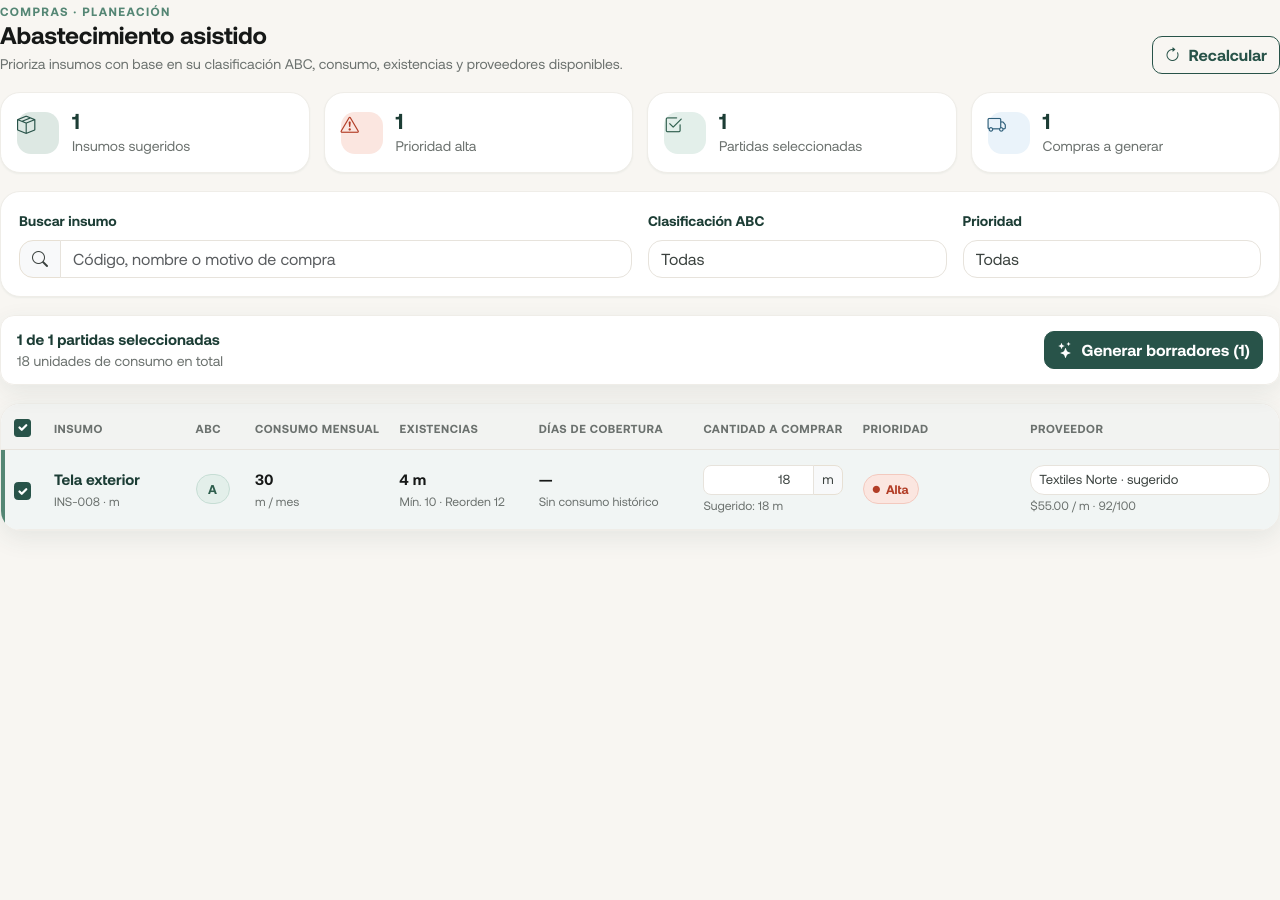
Scenario: AbastecimientoAsistidoPage › permite ajustar la sugerencia y genera borradores agrupados
Expected: the text "Tela exterior" is shown, x1=54 y1=470 x2=140 y2=488
Replace the text in the number field named "Cantidad para INS-008" with "15" at (759, 480), box x1=703 y1=465 x2=814 y2=495
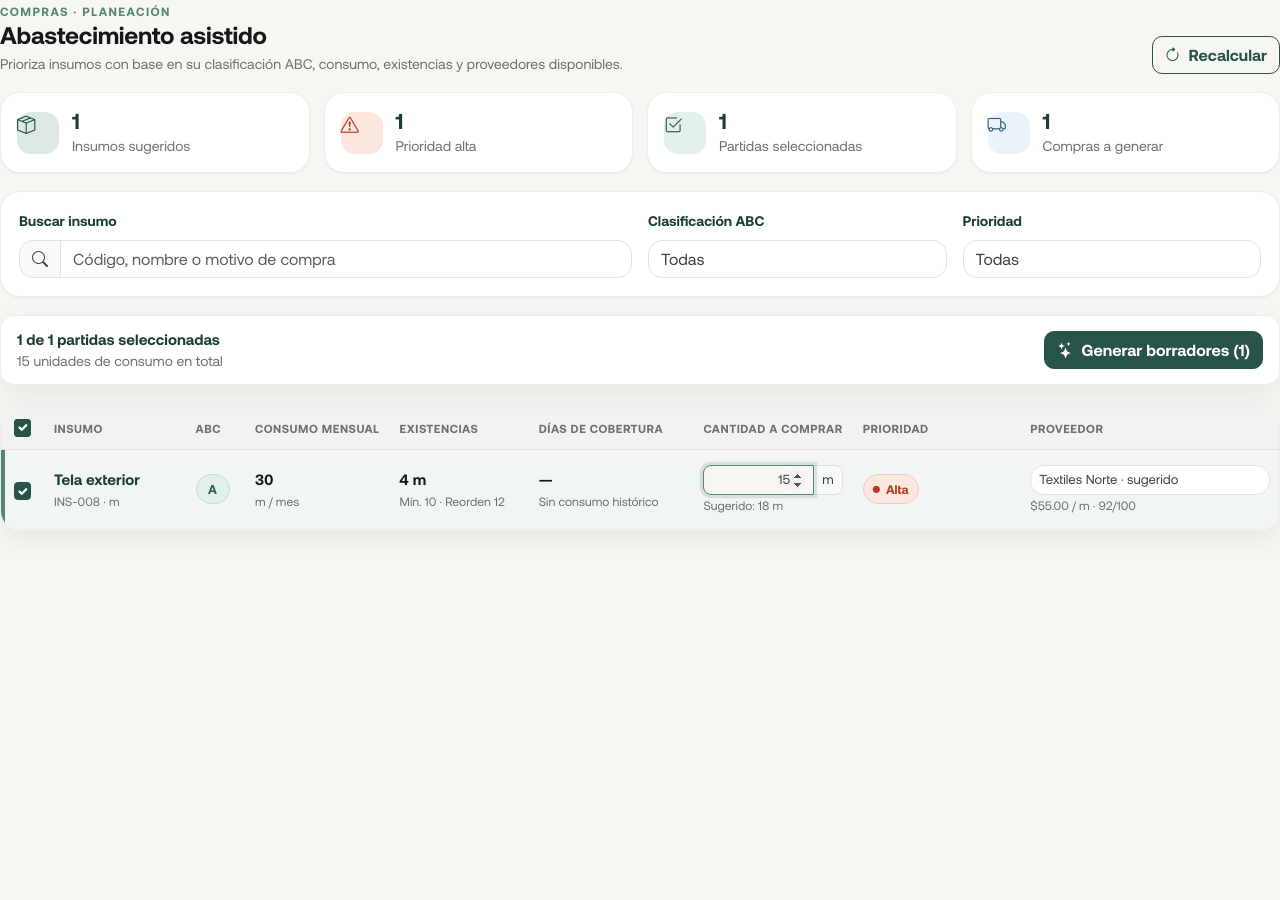
Select "Telas del Centro" in the dropdown named "Proveedor para INS-008" at (1150, 480), box x1=1030 y1=465 x2=1270 y2=495
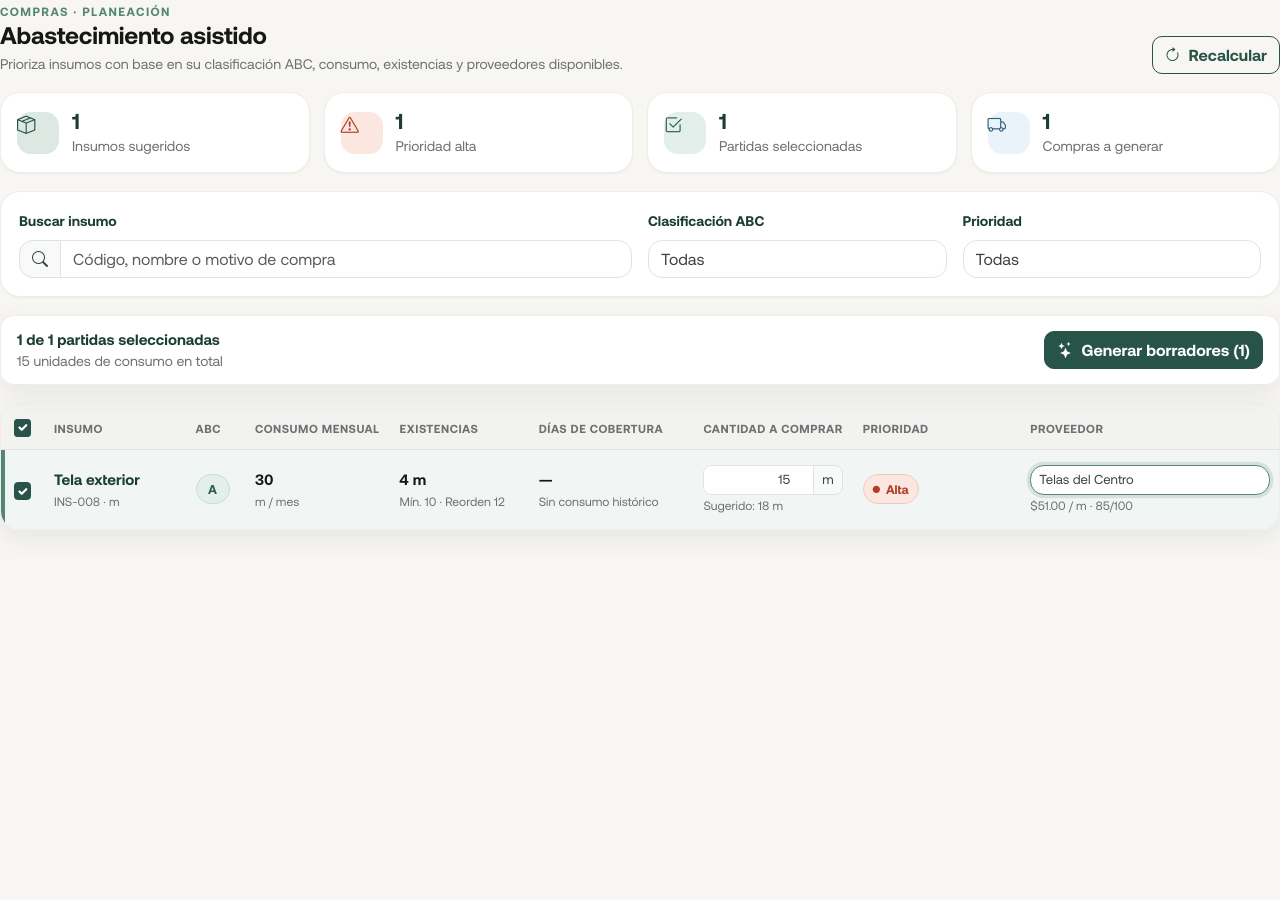
Click the button "Generar borradores (1)" at (1154, 350), box x1=1044 y1=331 x2=1263 y2=369
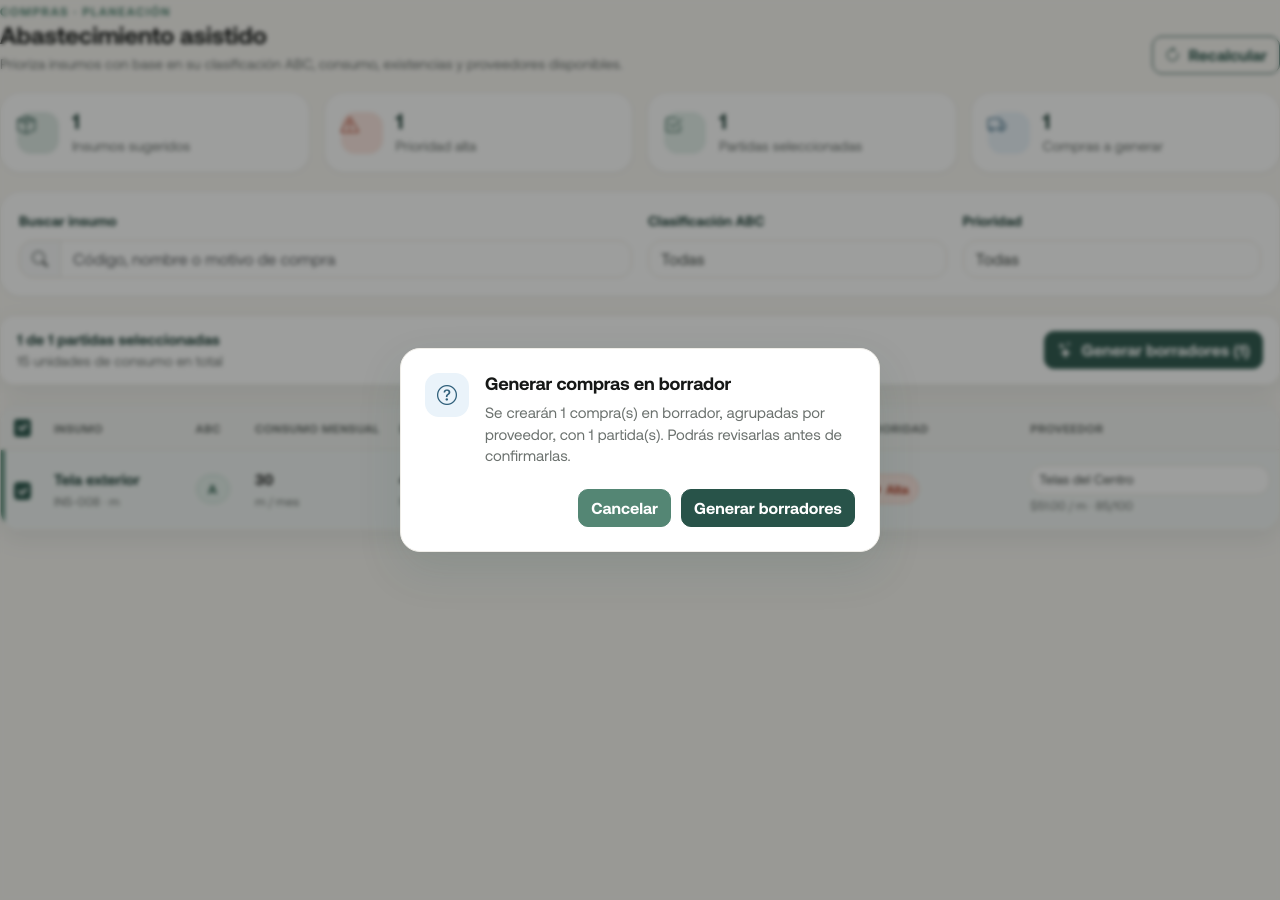
Click the button "Generar borradores" at (768, 508), box x1=681 y1=489 x2=855 y2=527
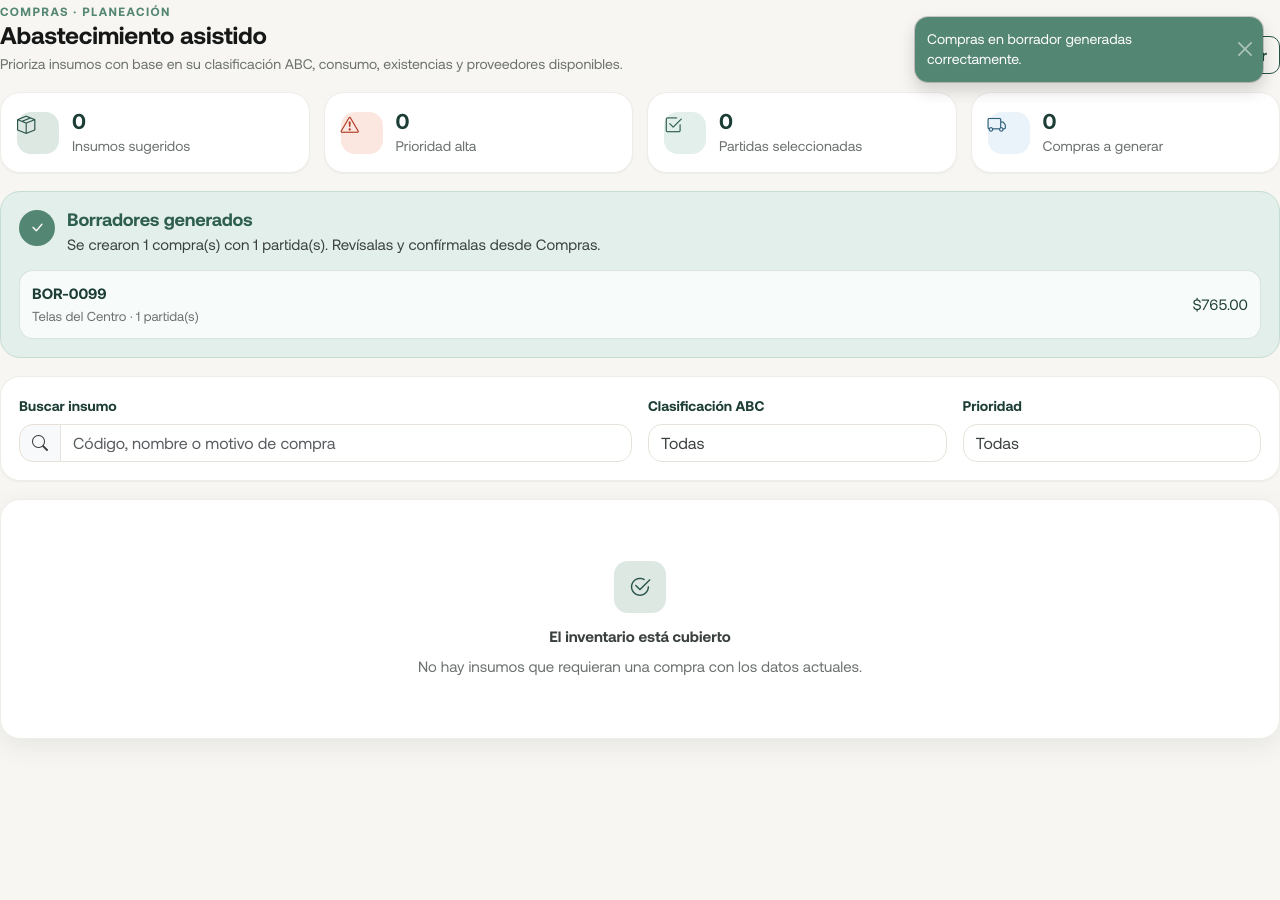
Result: the heading "Borradores generados" is shown at x1=67 y1=208 x2=253 y2=230
Result: the text "BOR-0099" is shown at x1=32 y1=284 x2=107 y2=302
Result: the text "El inventario está cubierto" is shown at x1=549 y1=626 x2=731 y2=648
